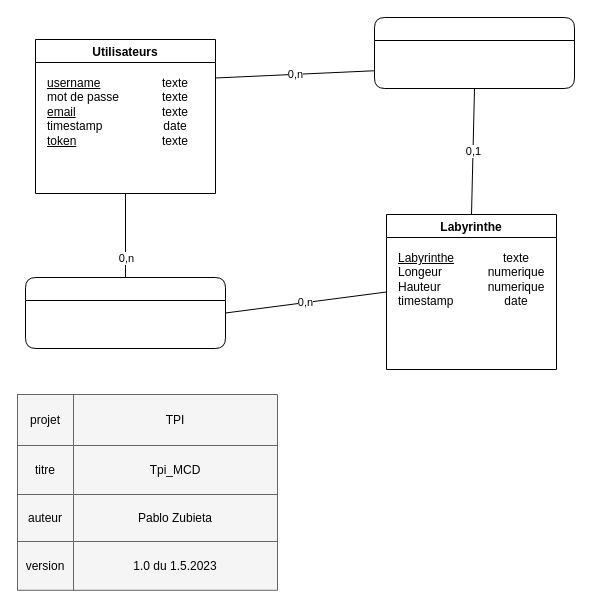
Image size: 592x608. Some labels were removed from this diagram. The box of each missing label's shape, as (x1, y1, x2, y2) in pixels:
Créer: (374, 16, 574, 88)
Resoudre: (24, 276, 226, 348)
